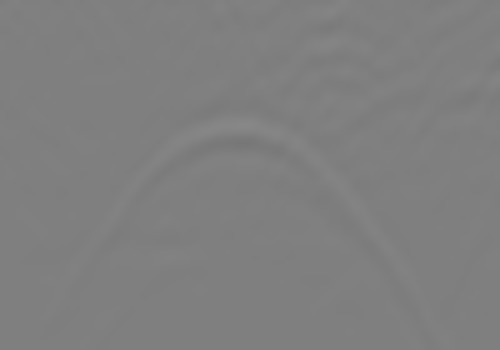hyperbola: (65, 112, 433, 315)
